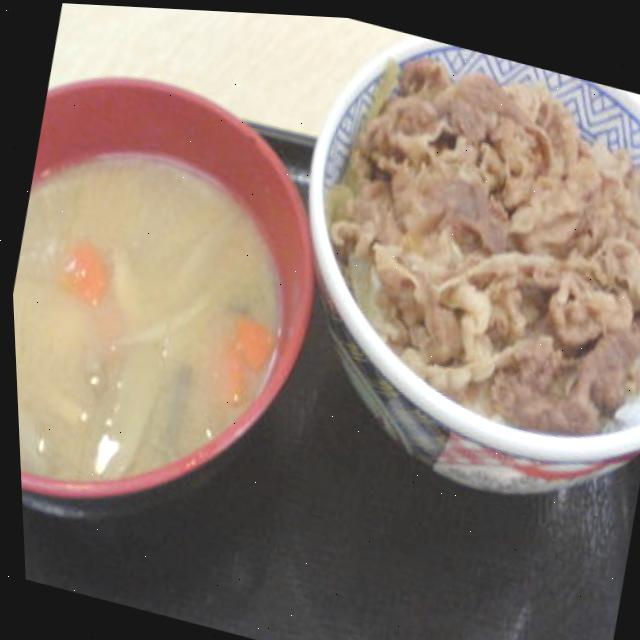蔬菜料理: (2, 60, 346, 537)
